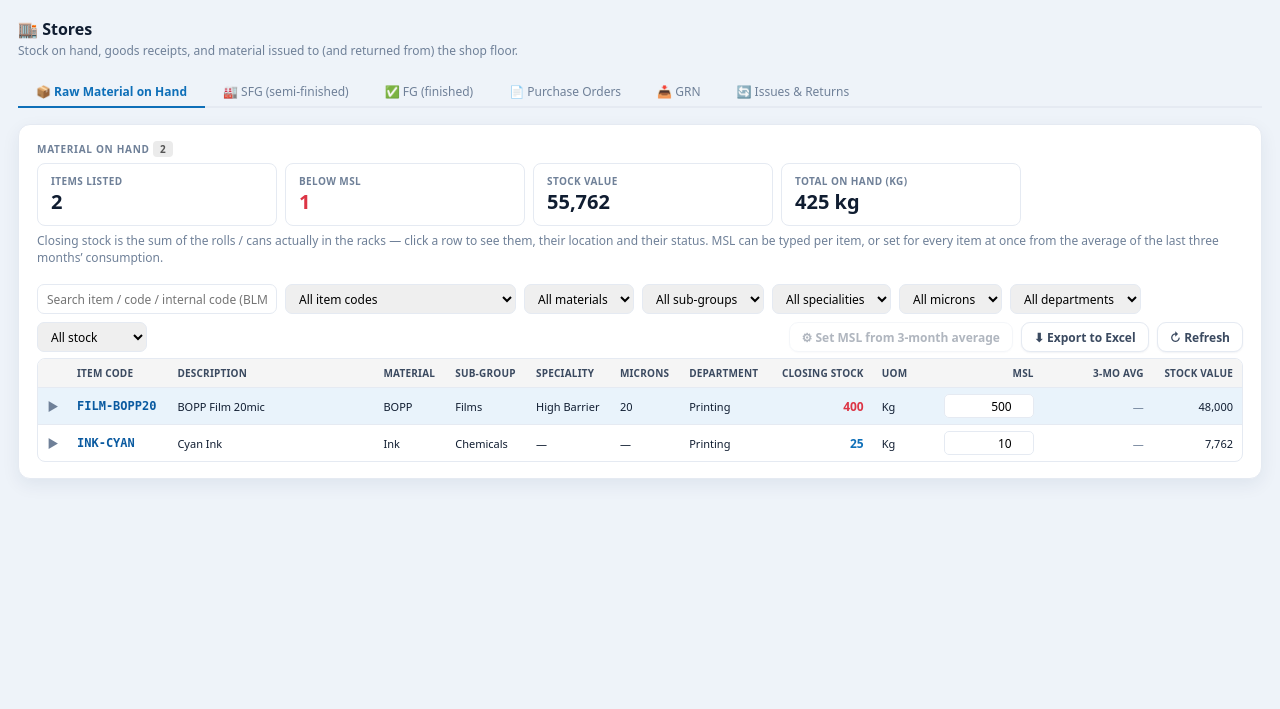
Test: Stores — purchase orders, GRN, issues and returns › picks the GRN’s PO from the open POs, and re-reads the PO it closed (30.09 §PU2 / §S7b)
The image size is (1280, 709).
Click the text "📥 GRN" at (679, 92), box [657,83,700,100]
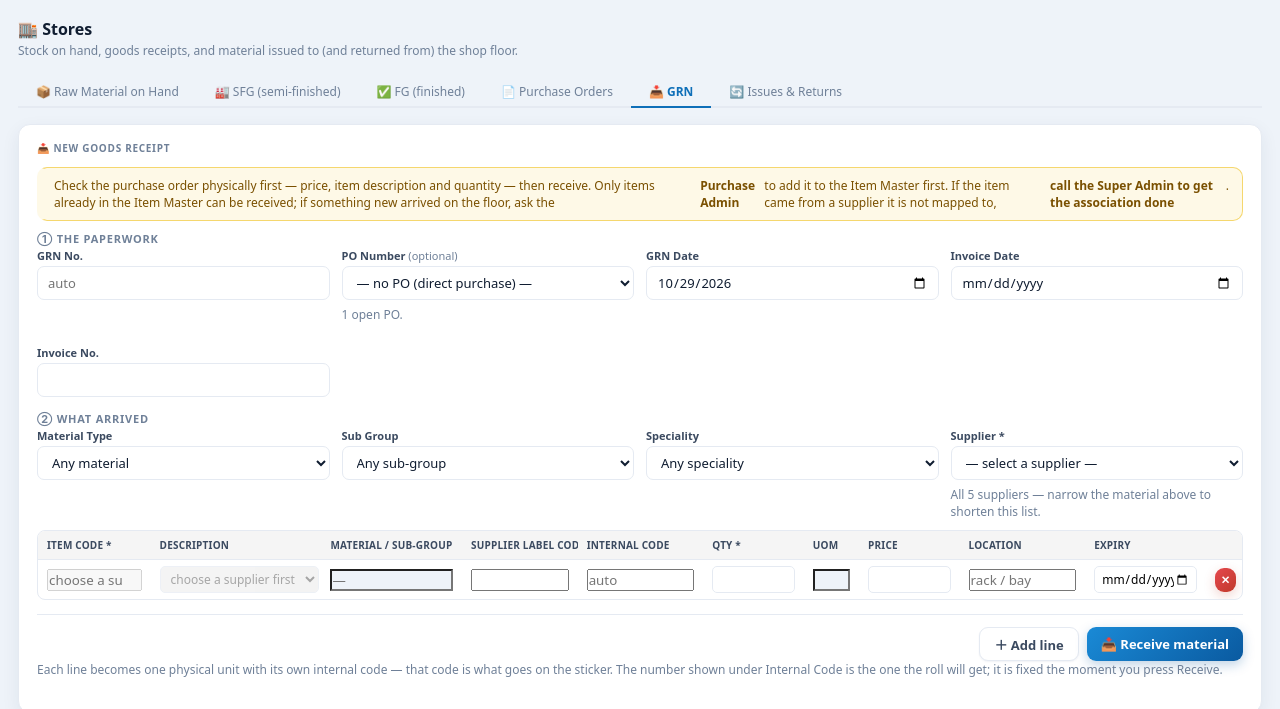
Result: the text "📥 New goods receipt" is shown at [37,141,170,155]
# picking the PO names its supplier
Select "BLM/PUR/2026-2027/7 · Cosmos Films" in the dropdown named "Purchase order" at (488, 283), box [342,266,634,300]
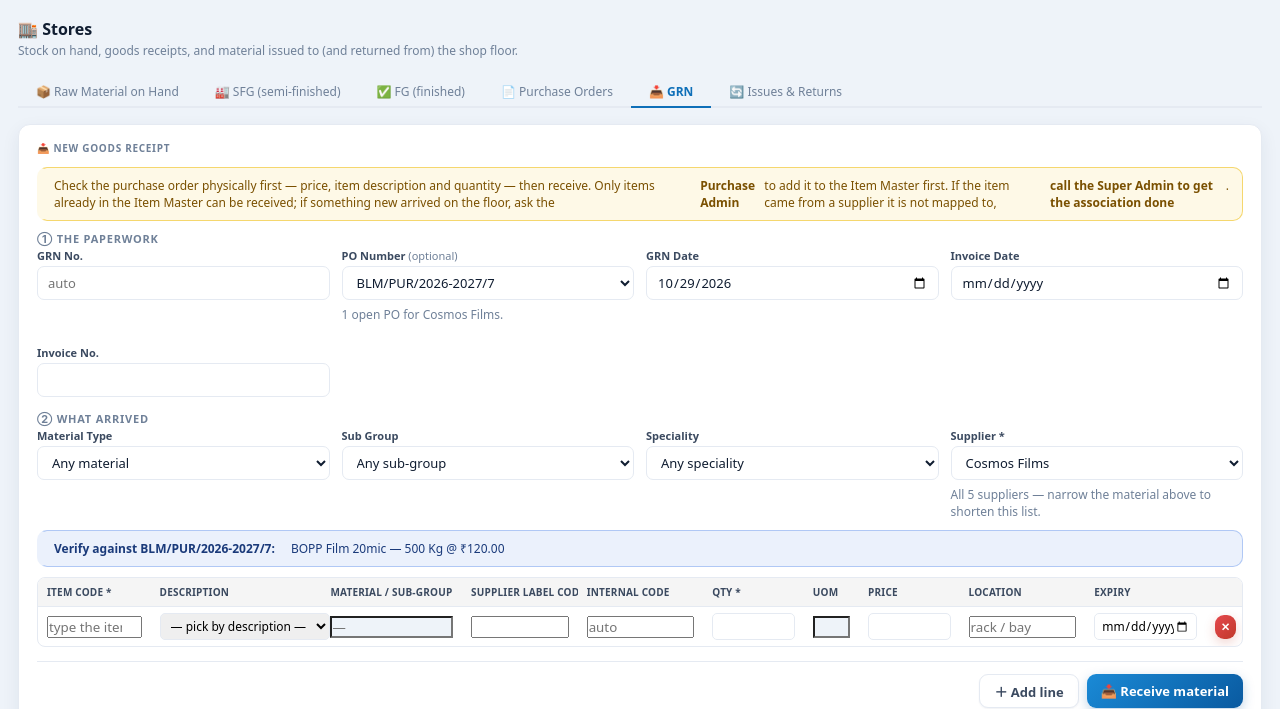
Result: the dropdown named "Supplier" shows "Cosmos Films" at [950,446,1243,480]
Result: the text "Verify against BLM/PUR/2026-2027/7:" is shown at [54,540,275,557]
Result: the field named "Item for line 1" is enabled
Type "FILM-BOPP20" into the field named "Item for line 1" at (94, 626), box [47,616,142,638]
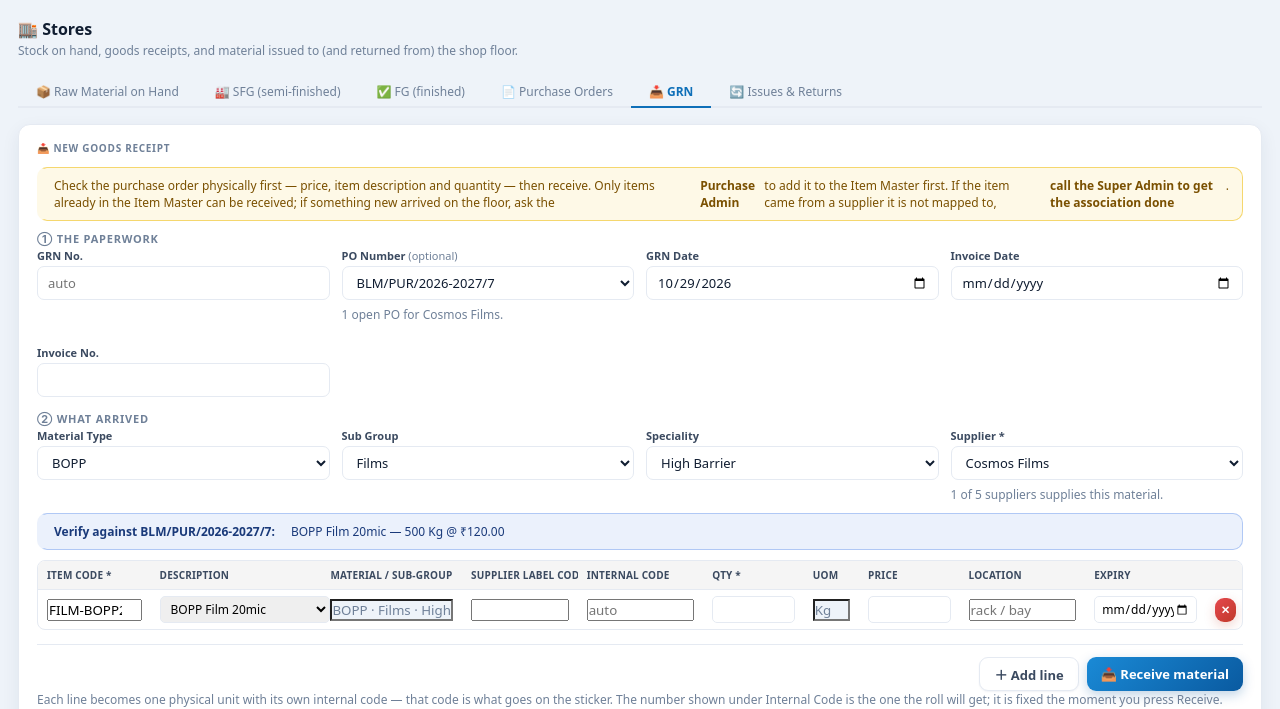
Type "500" into the number field named "Quantity line 1" at (754, 610), box [712,596,795,623]
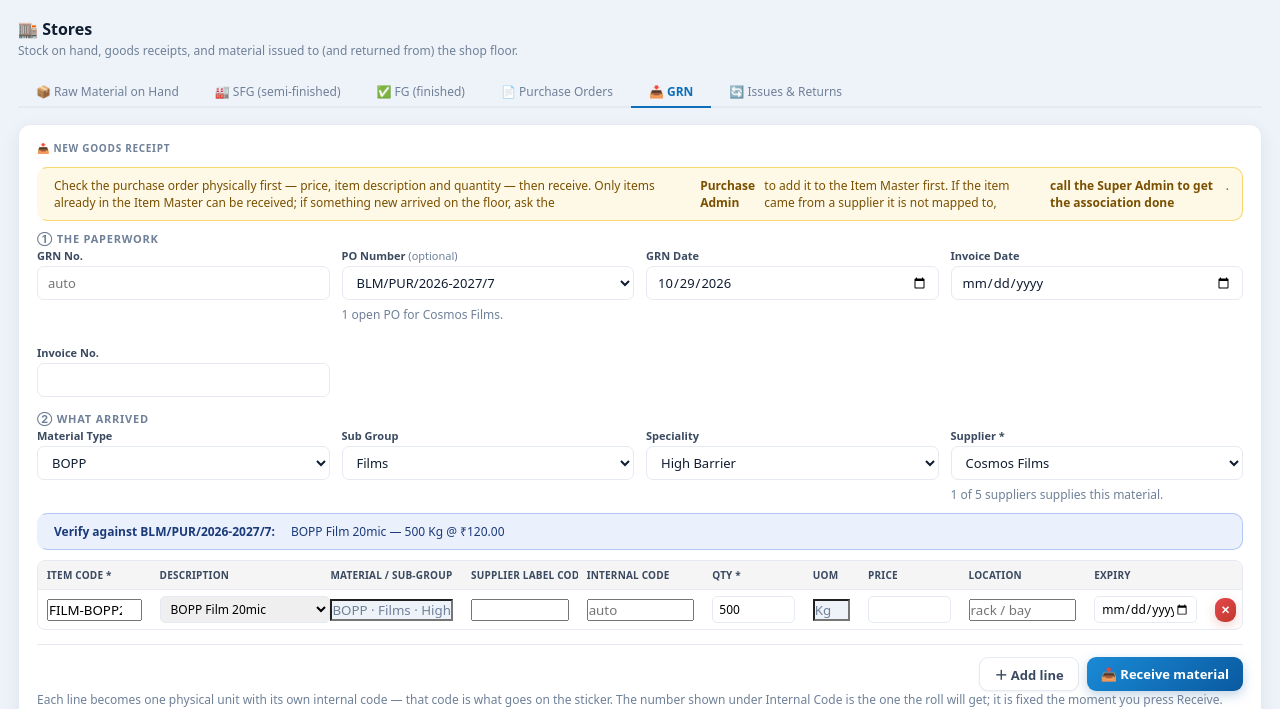
Click the button "📥 Receive material" at (1165, 674), box [1087,657,1243,691]
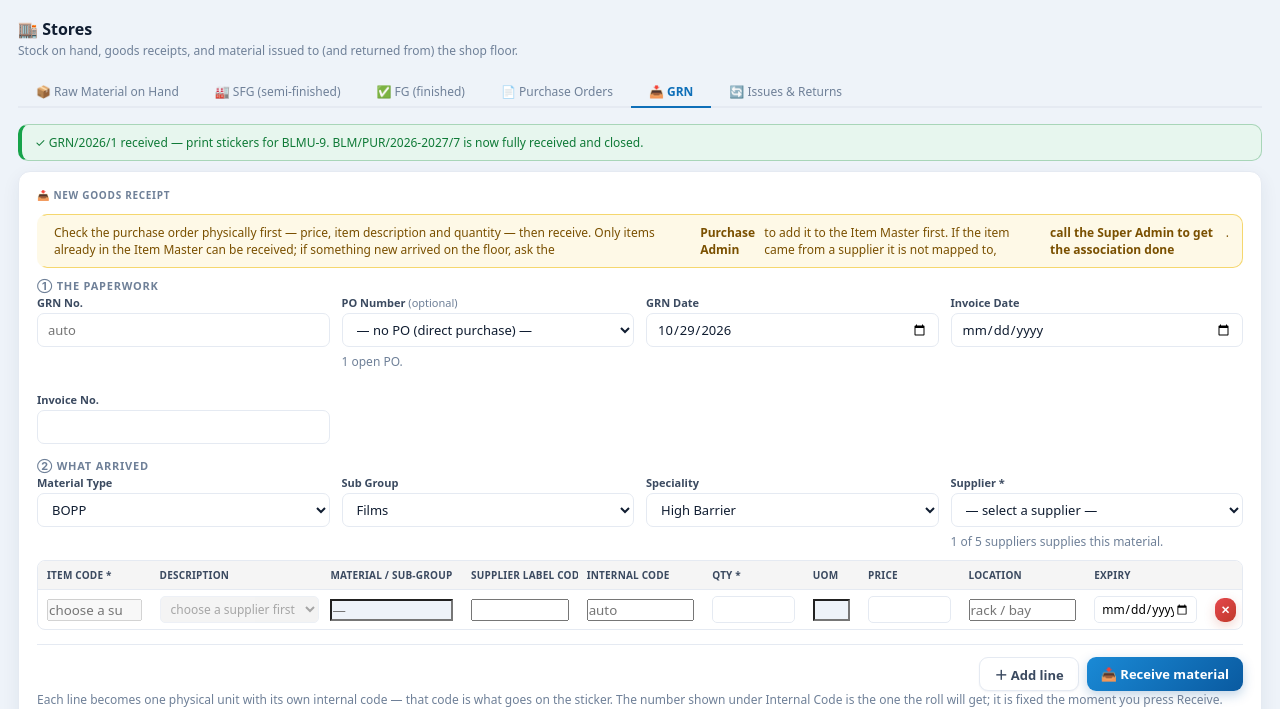
Result: the text "BLM/PUR/2026-2027/7 is now fully received and closed" is shown at [35,134,643,151]
